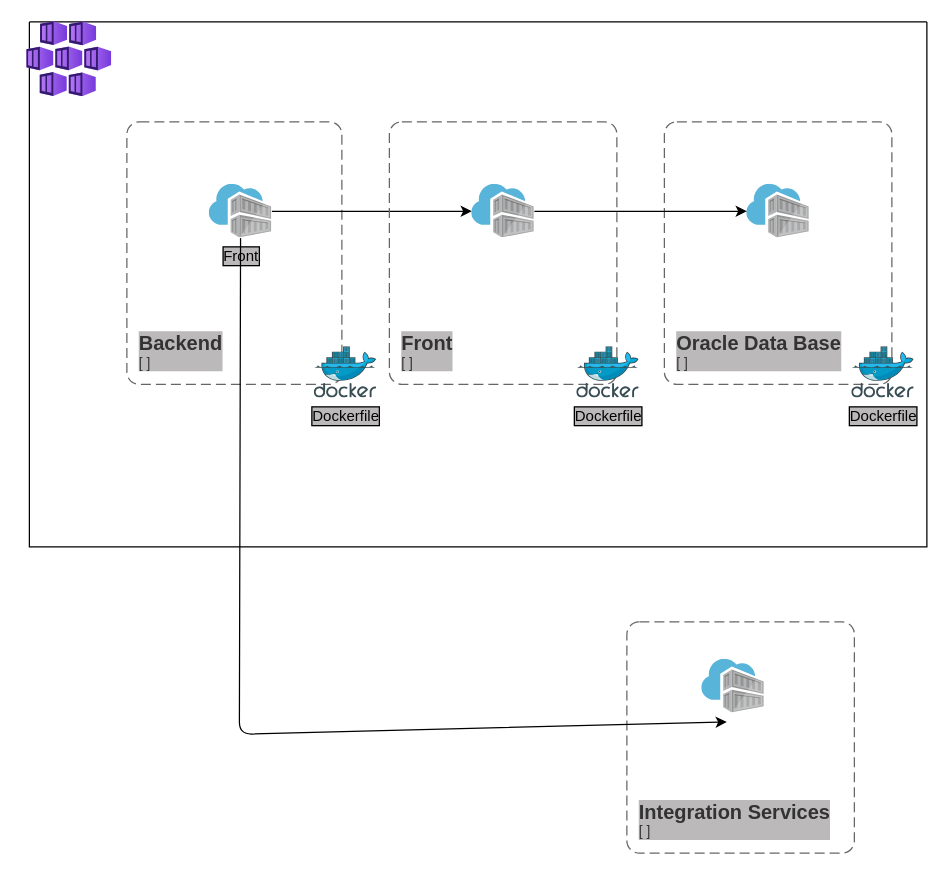
This 949x875 diagram has some shape labels left out. Each missing label, with the centre of its shape:
API: [732,685]
Back: [502,211]
DB: [777,211]
MicroServices: [68,58]
